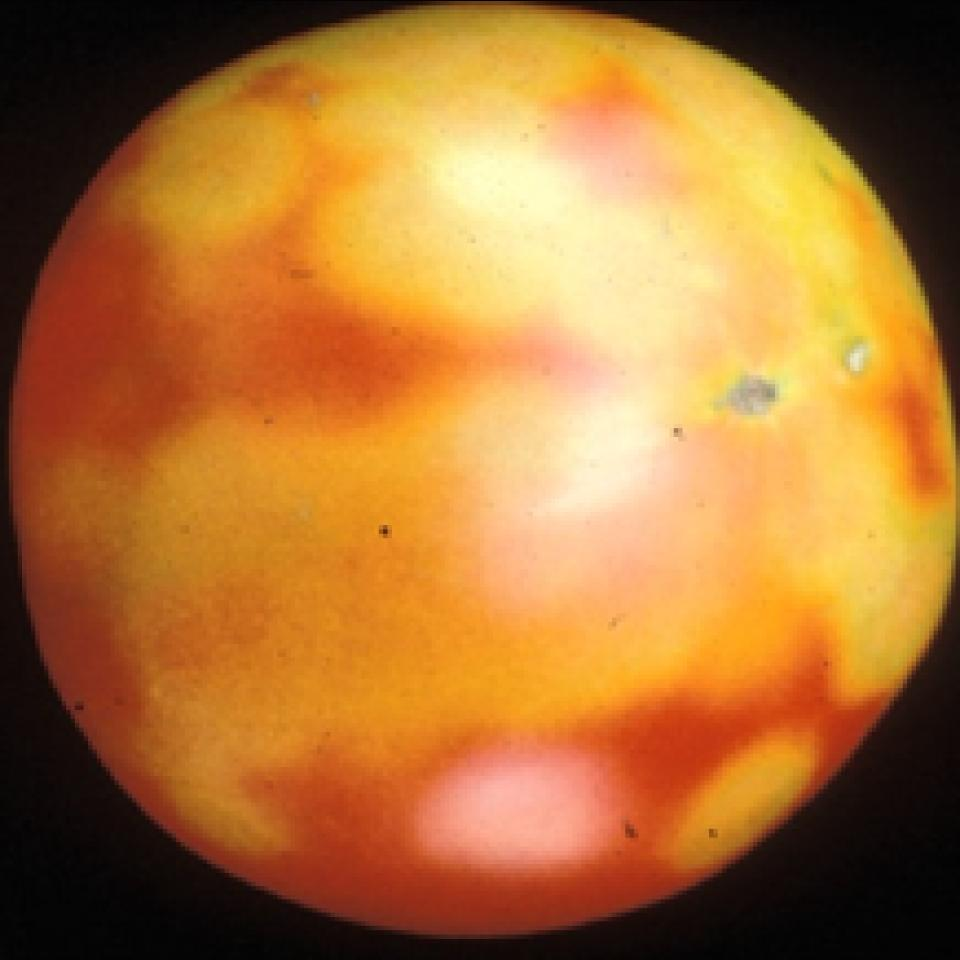Spotted wilt Virus: (0, 0, 960, 938)
